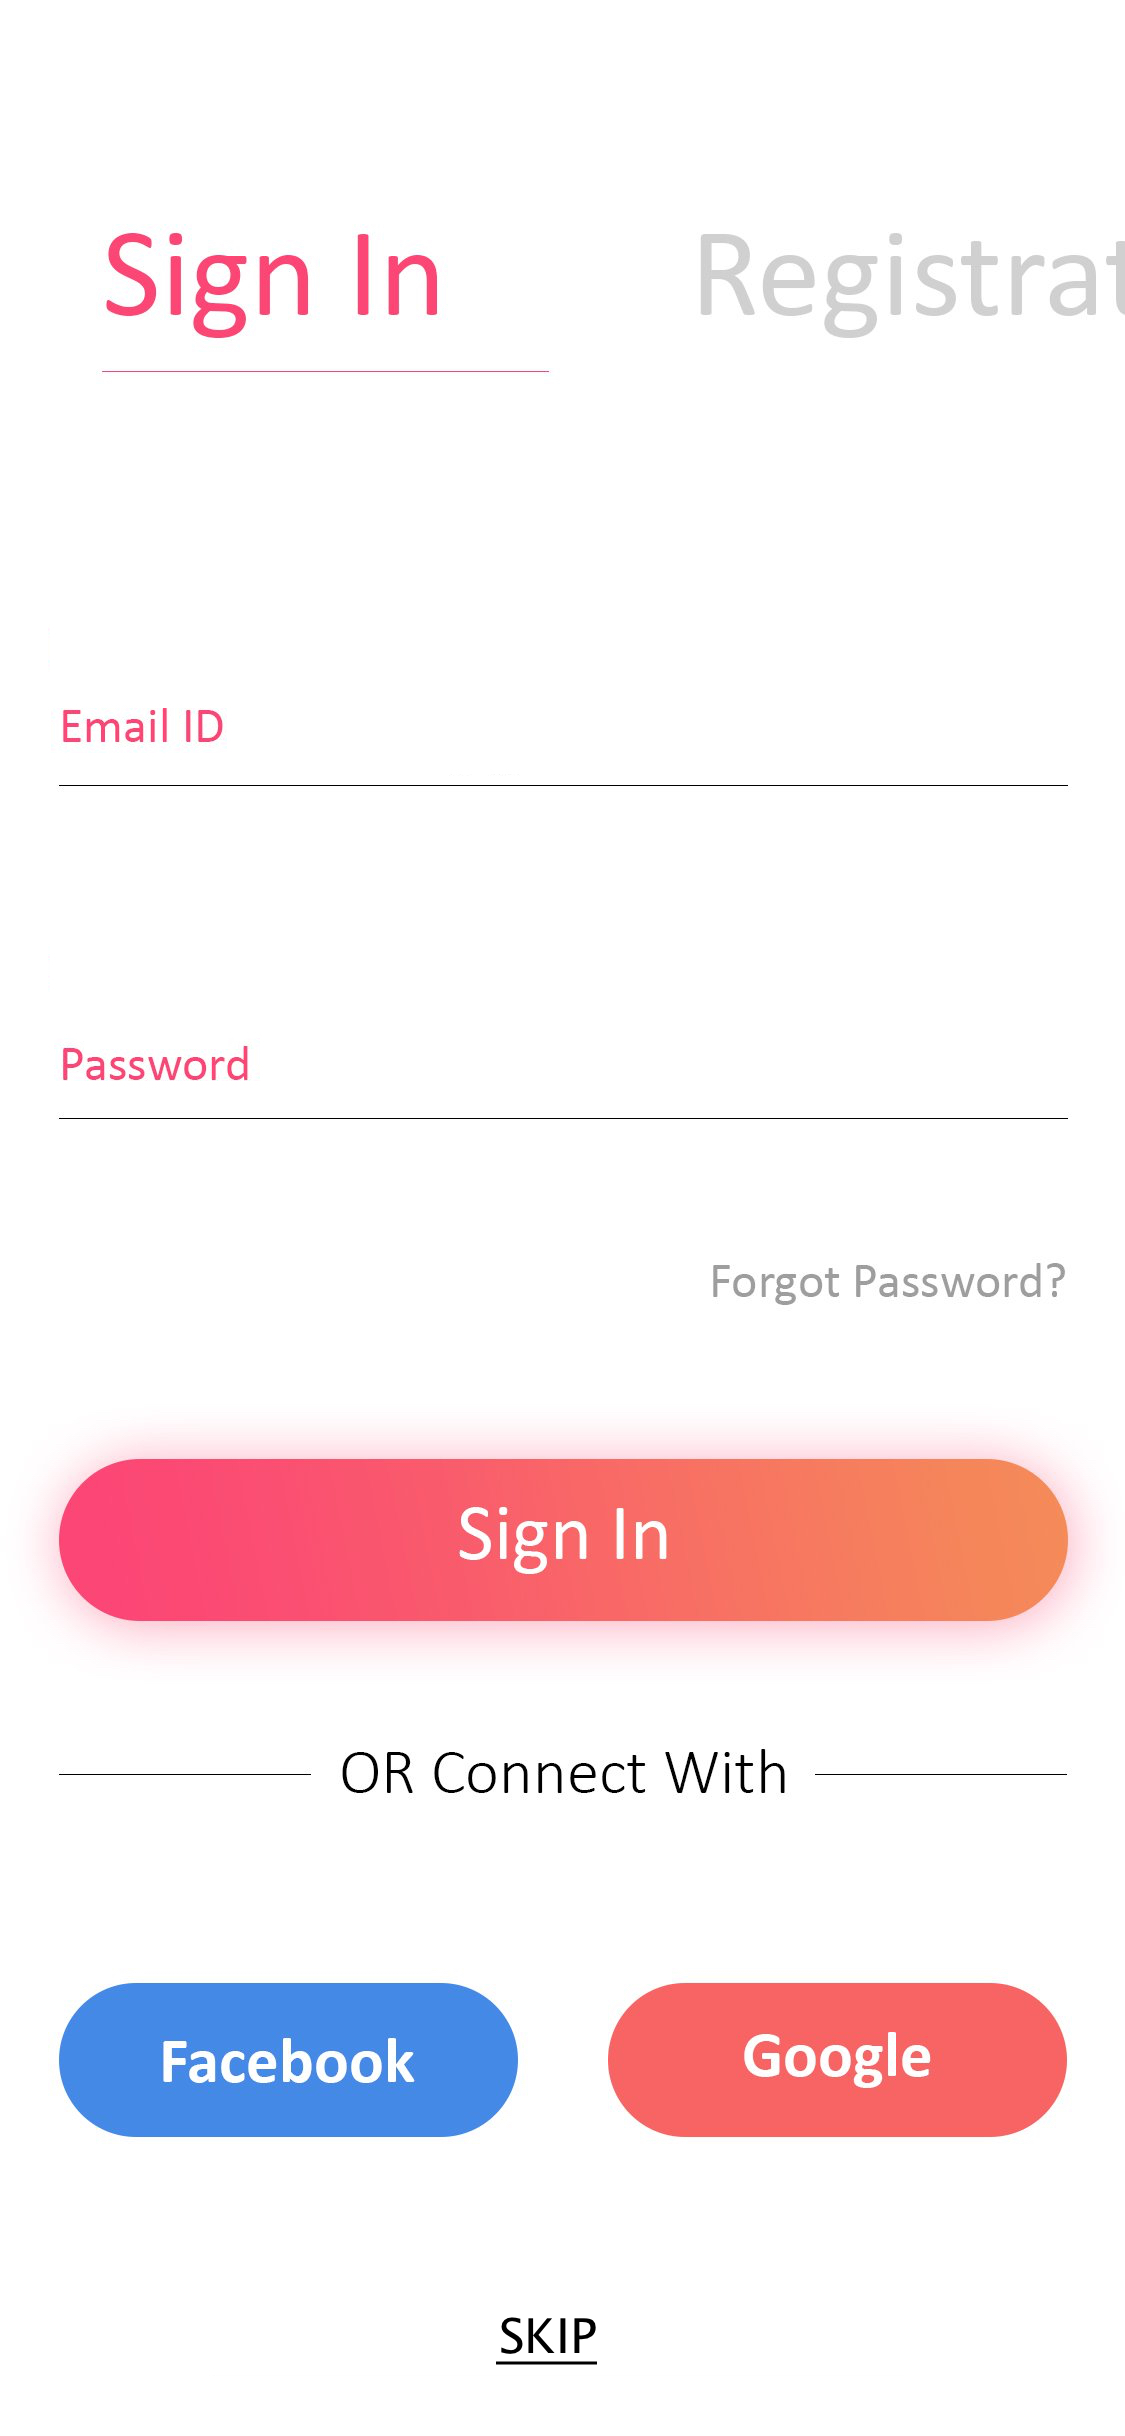EditText: (61, 708, 1069, 788), (59, 1046, 1069, 1120)
Text: (699, 231, 1125, 340), (106, 231, 440, 340), (342, 1748, 786, 1794), (712, 1261, 1068, 1307), (64, 1046, 250, 1081), (64, 708, 225, 743), (496, 2315, 598, 2368)
TextButton: (59, 1459, 1069, 1622), (59, 1982, 519, 2138), (608, 1982, 1068, 2138)
